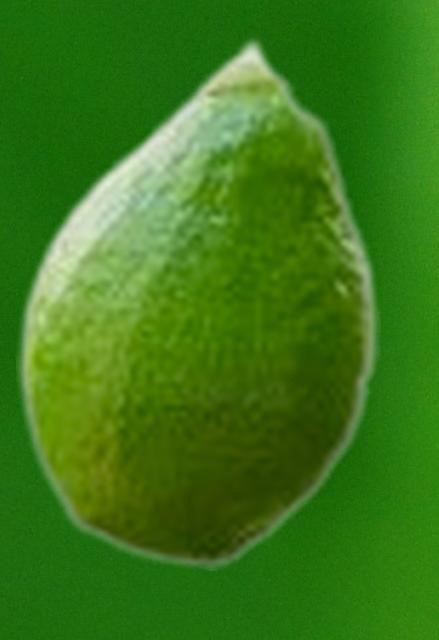avocado: (16, 34, 379, 569)
